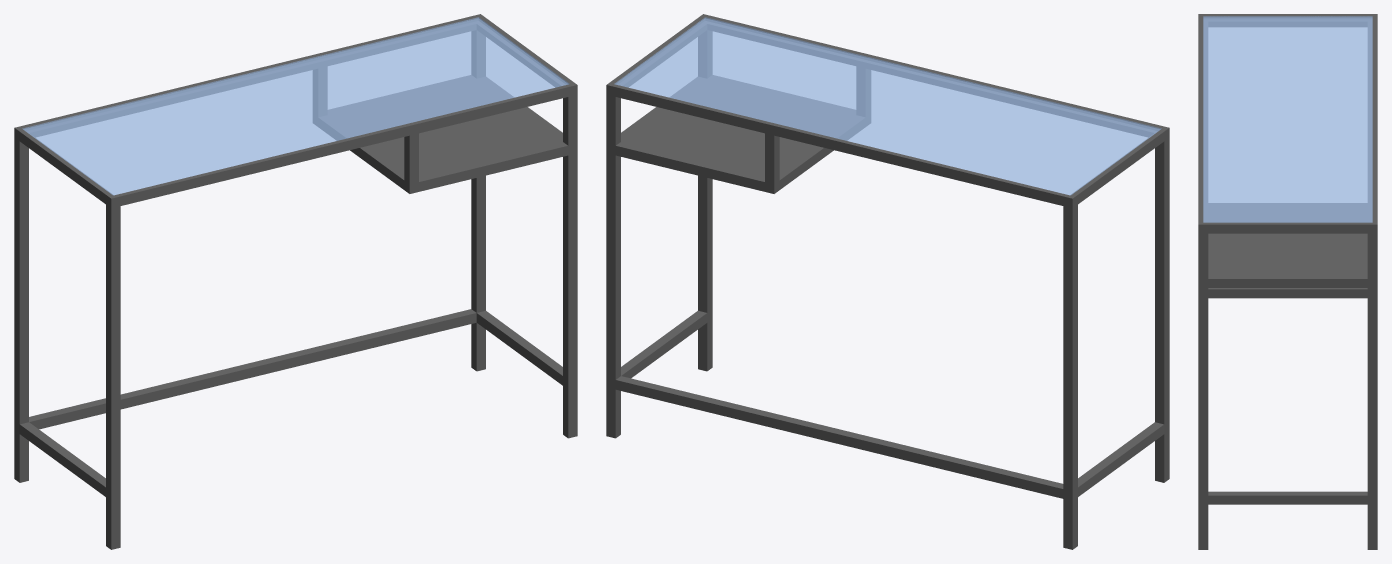
The model's file is desktransparents.glb.
3 views of the same model, side by side, from view 1: azimuth 30°, elevation 25°; view 2: azimuth 150°, elevation 25°; view 3: azimuth 270°, elevation 25° (orthographic). The views are drawn at different scales.
Visible parts, largest first — view 1: node-0; view 2: node-0; view 3: node-0.
Boxes of the visible parts, x1=… form: node-0: x1=14, y1=14, x2=577, y2=549; node-0: x1=606, y1=14, x2=1169, y2=549; node-0: x1=1198, y1=14, x2=1377, y2=549.
Size of the model in its own units: 39.37 by 28.35 by 14.17.
